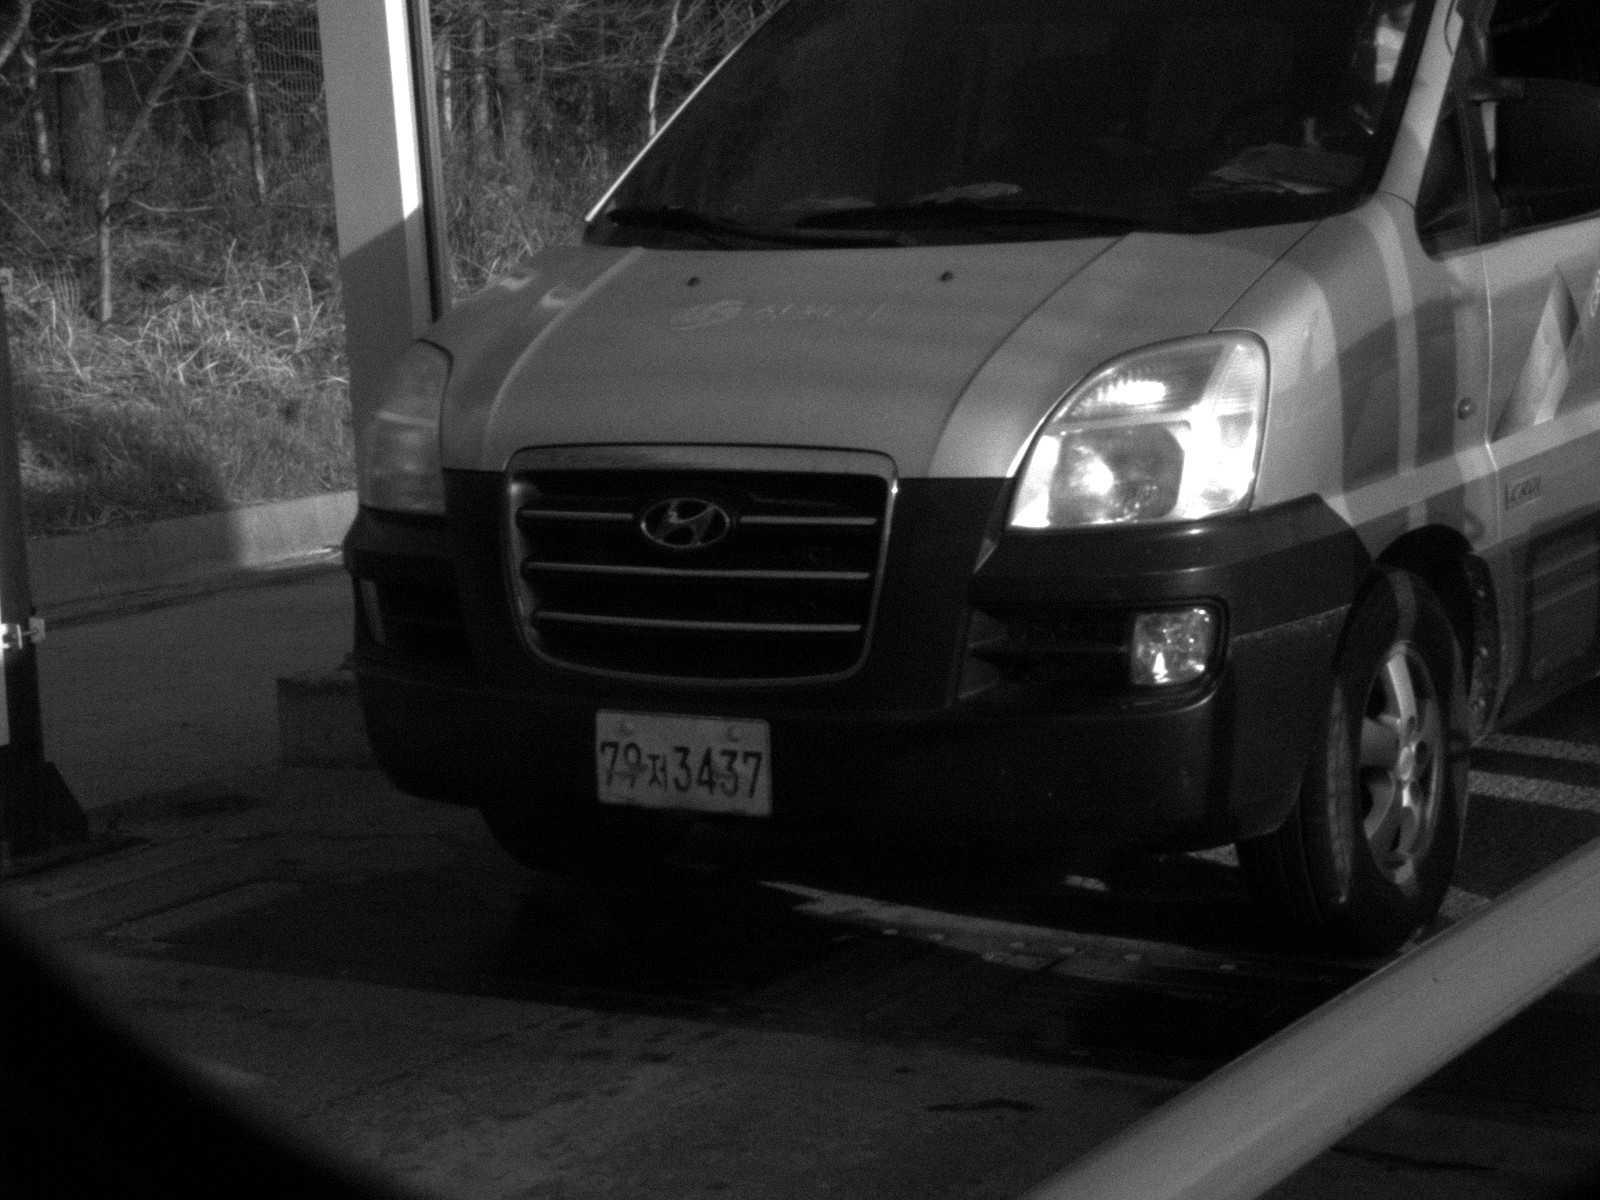car: (334, 1, 1599, 953)
plate: (589, 710, 777, 815)
